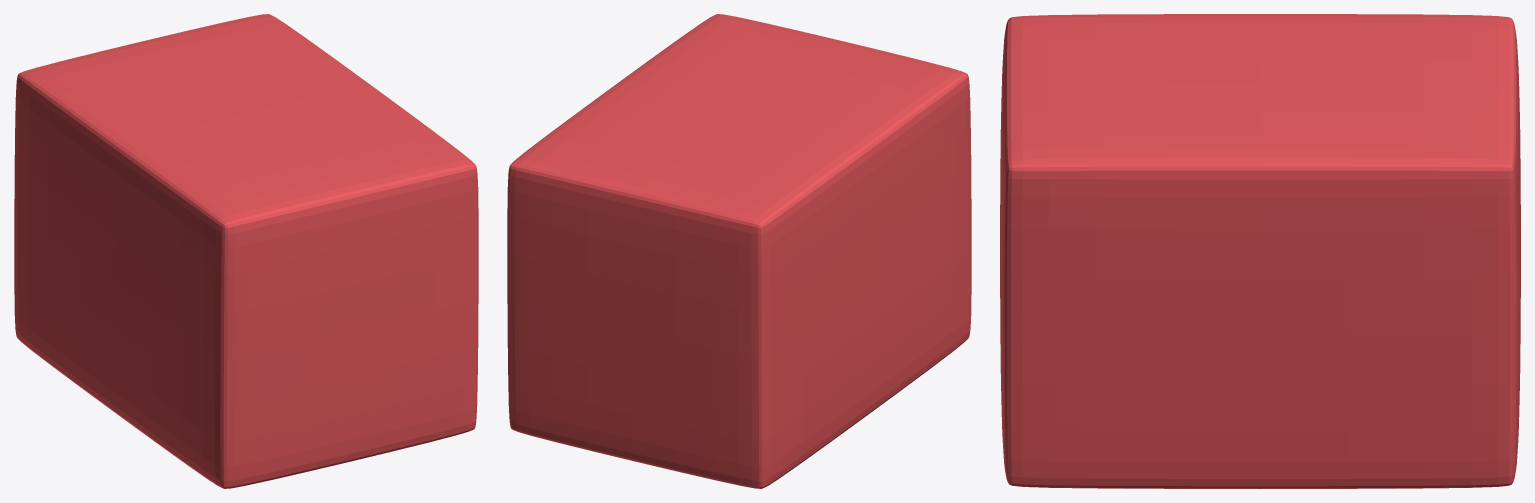
Rendered from PTvideo028_red.fbx.
3 views of the same model, side by side, from view 1: azimuth 30°, elevation 25°; view 2: azimuth 150°, elevation 25°; view 3: azimuth 270°, elevation 25° (orthographic). The views are drawn at different scales.
Visible parts, largest first — view 1: Cube3х3.004; view 2: Cube3х3.004; view 3: Cube3х3.004.
Boxes of the visible parts, x1,y1,x2,y2 form: Cube3х3.004: [14, 14, 478, 488]; Cube3х3.004: [507, 14, 971, 488]; Cube3х3.004: [1000, 14, 1520, 488].
Size of the model in its own units: 36.84 by 36.84 by 51.86.
